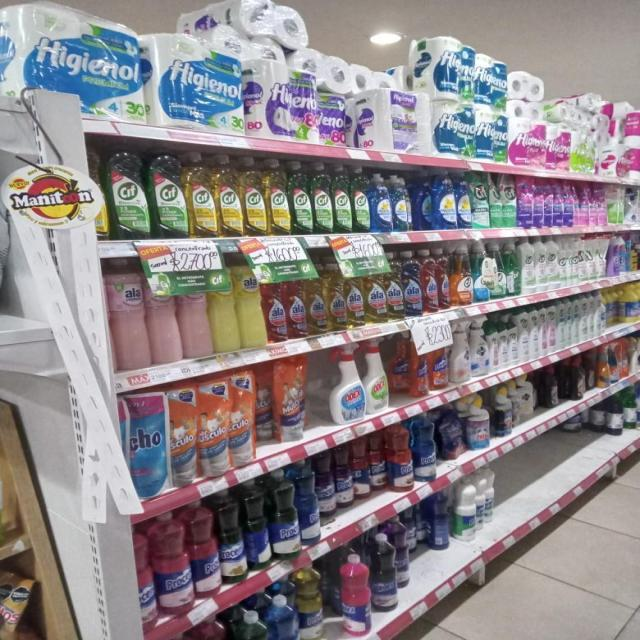ala_conc_amarillo: (306, 261, 326, 335), (326, 260, 346, 332), (366, 257, 386, 324), (346, 258, 364, 328), (386, 253, 403, 320)
ala_conc_azul: (404, 251, 422, 316)
ala_conc_rojo: (264, 262, 286, 343), (286, 263, 306, 339), (452, 245, 473, 307), (422, 248, 438, 314), (438, 247, 451, 311)
ala_crem_amarillo: (210, 261, 237, 353), (238, 260, 263, 349)
ala_crem_rosado: (107, 259, 147, 371), (147, 262, 180, 366), (180, 262, 210, 359)
cif_conc_bot_amarilla: (186, 152, 214, 238), (215, 154, 240, 237), (241, 156, 265, 237), (266, 158, 289, 236)
cif_conc_botella_verde: (106, 147, 148, 240), (149, 149, 185, 239), (290, 160, 311, 235), (312, 162, 331, 234), (332, 164, 350, 234), (352, 168, 368, 233)
magistral_con_azul: (434, 170, 456, 231), (370, 173, 391, 233), (413, 172, 432, 231), (392, 174, 411, 232), (456, 171, 471, 229)
